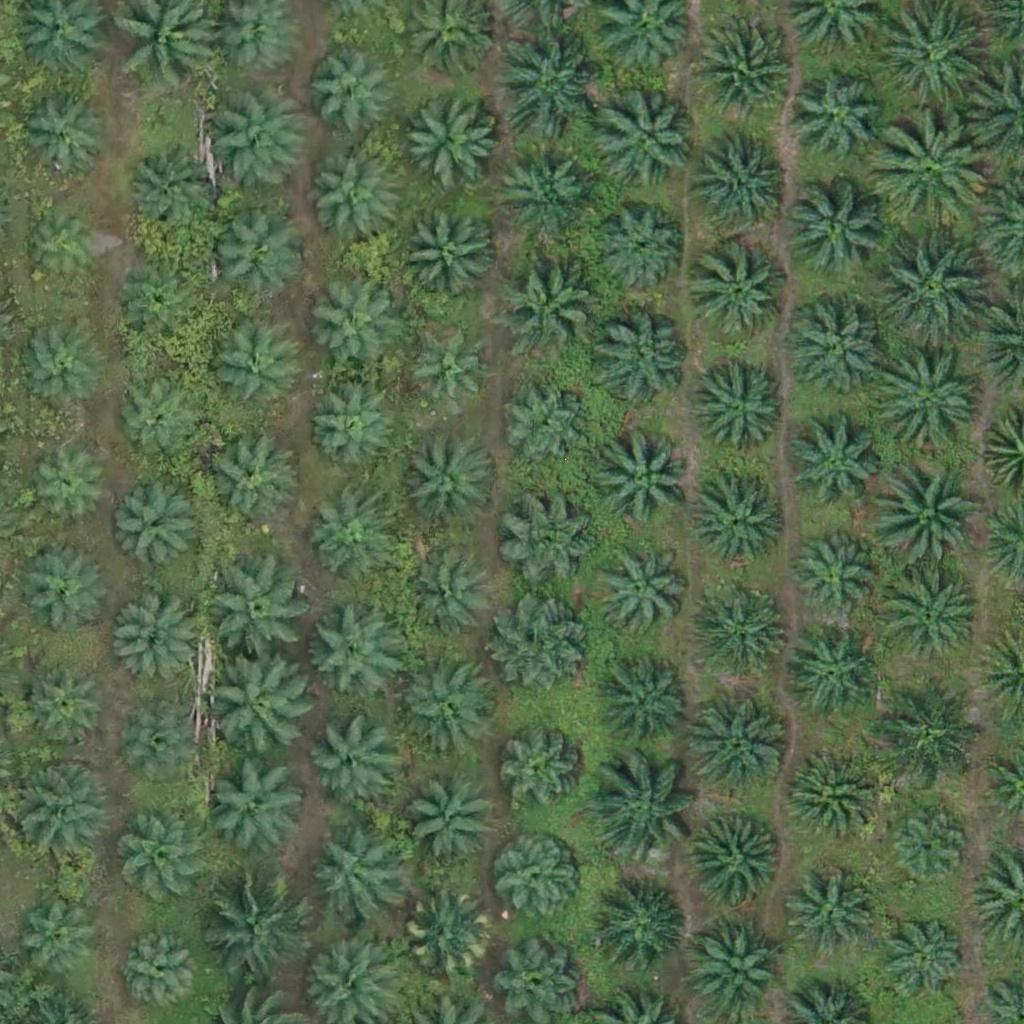Kelapa_Sawit: (201, 652, 314, 766), (591, 756, 704, 869), (876, 672, 989, 785), (876, 347, 989, 460), (875, 231, 988, 344), (201, 876, 313, 990), (489, 27, 601, 140), (875, 561, 987, 674), (870, 451, 982, 564), (873, 114, 985, 227), (779, 746, 879, 847), (591, 879, 691, 980), (213, 757, 313, 858), (7, 757, 107, 858), (125, 139, 225, 240), (198, 435, 298, 536), (213, 560, 313, 661), (303, 272, 403, 373), (397, 655, 497, 756), (398, 206, 498, 307), (400, 87, 500, 188), (495, 139, 595, 240), (498, 250, 598, 351), (497, 488, 597, 589), (495, 592, 595, 693), (598, 427, 698, 528), (591, 542, 691, 643), (595, 651, 695, 752), (689, 694, 789, 795), (688, 470, 788, 571), (690, 241, 790, 342), (691, 17, 791, 118), (788, 68, 888, 169), (786, 178, 886, 279), (781, 414, 881, 515), (784, 626, 884, 727), (686, 813, 786, 913), (687, 918, 787, 1018), (15, 86, 115, 186), (208, 93, 308, 193), (304, 598, 404, 698), (597, 92, 697, 192), (588, 309, 688, 409), (696, 581, 796, 681), (691, 357, 791, 457), (698, 128, 798, 228), (785, 296, 885, 396), (114, 927, 202, 1016), (887, 803, 975, 891), (876, 910, 964, 998), (789, 871, 877, 959), (306, 717, 394, 805), (307, 833, 395, 921), (122, 817, 210, 905), (16, 890, 104, 978), (120, 263, 208, 351), (211, 211, 299, 299), (207, 323, 295, 411), (308, 48, 396, 136), (308, 155, 396, 243), (305, 388, 393, 476), (407, 432, 495, 520), (502, 382, 590, 470), (401, 325, 488, 414), (497, 731, 584, 819), (494, 840, 581, 928), (404, 892, 491, 980), (403, 777, 490, 865), (22, 662, 109, 750), (22, 544, 109, 632), (29, 440, 116, 528), (17, 317, 104, 405), (116, 380, 203, 468), (115, 489, 202, 577), (112, 597, 199, 685), (304, 495, 391, 583), (402, 553, 489, 641), (597, 203, 684, 291), (791, 528, 878, 616), (27, 211, 102, 287), (126, 707, 201, 783)
